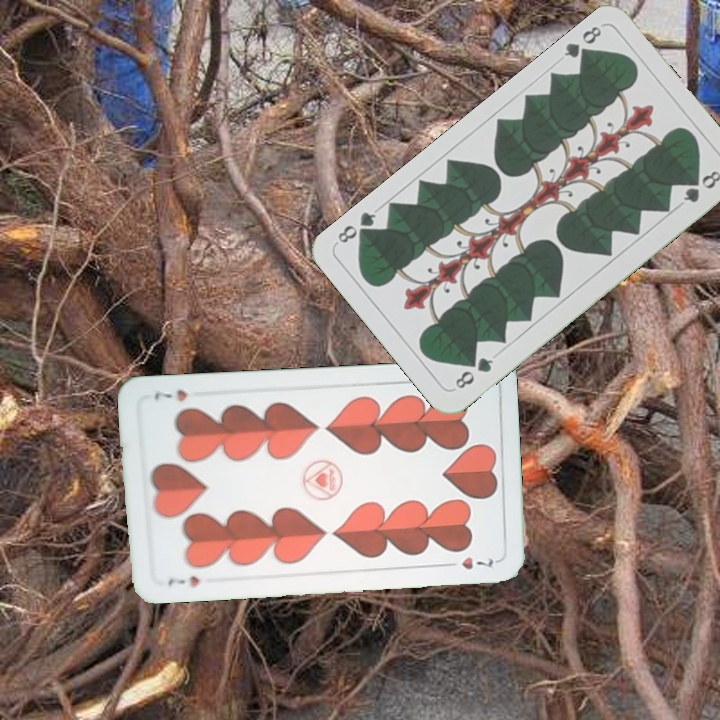G8: (559, 21, 605, 65), (450, 353, 496, 392)
H7: (164, 571, 203, 589)
